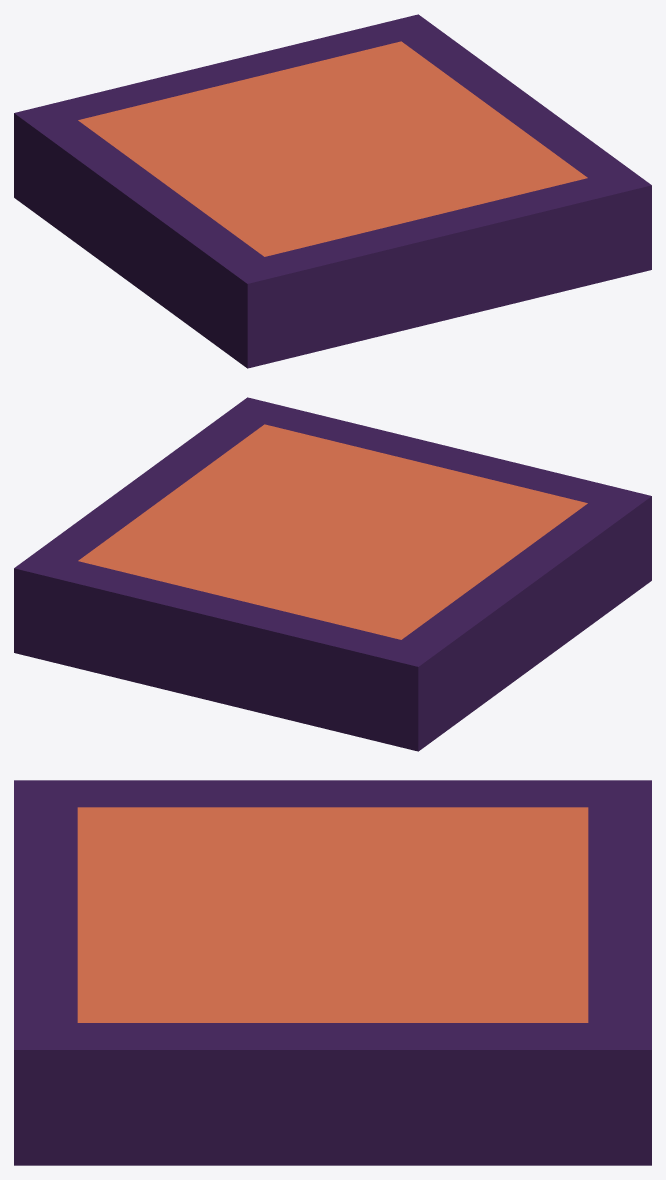
Rendered from plant_pot.gltf.
3 views of the same model, one above another, from view 1: azimuth 30°, elevation 25°; view 2: azimuth 150°, elevation 25°; view 3: azimuth 270°, elevation 25° (orthographic). The views are drawn at different scales.
Visible parts, largest first — view 1: plant_pot; view 2: plant_pot; view 3: plant_pot.
Part boxes in pixels (x1,y1,x2,y2): plant_pot: [14, 14, 651, 368]; plant_pot: [14, 397, 651, 751]; plant_pot: [14, 780, 651, 1165].
Size of the model in its own units: 1 by 0.2 by 1.
Materials: 1 (1 with a texture image).
